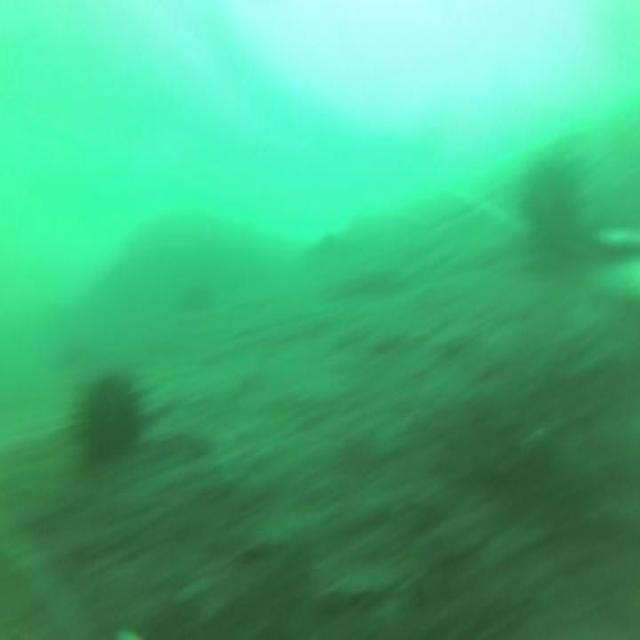echinus: (521, 158, 586, 254), (79, 378, 141, 464)
